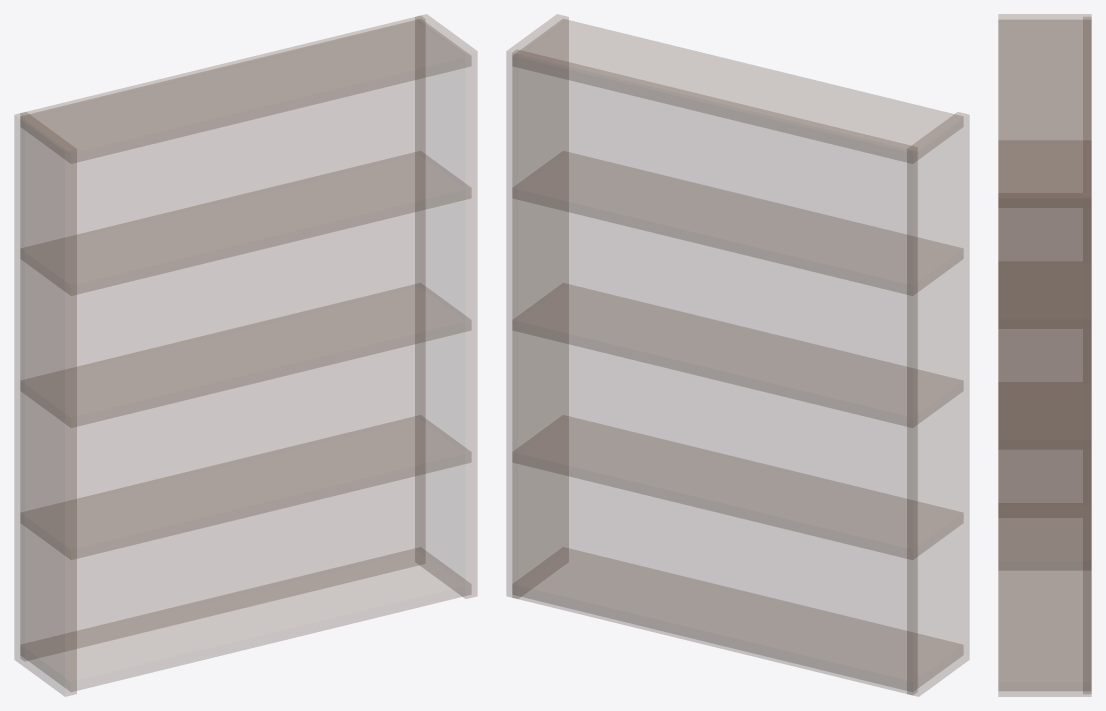
The model's file is shelf-dvd-ghost.glb.
3 views of the same model, side by side, from view 1: azimuth 30°, elevation 25°; view 2: azimuth 150°, elevation 25°; view 3: azimuth 270°, elevation 25° (orthographic). The views are drawn at different scales.
Bounding box in the file's own units: 1.03 × 1.3 × 0.22.
